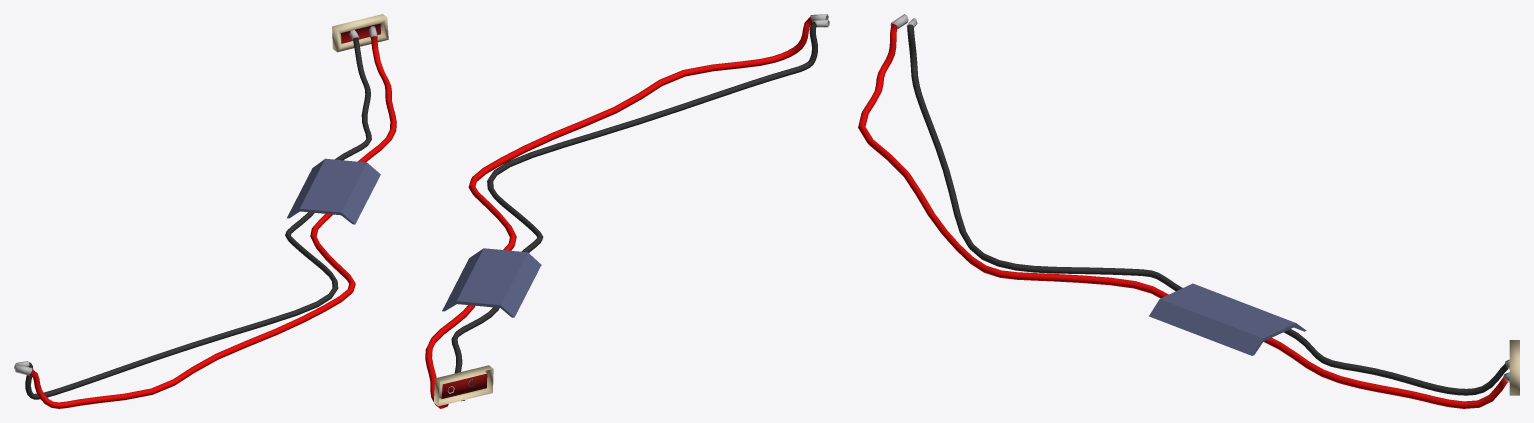
Rendered from hangar wires.fbx.
The picture shows the model from 3 angles, left to right: view 1: azimuth 30°, elevation 25°; view 2: azimuth 210°, elevation 25°; view 3: azimuth 270°, elevation 25°; orthographic projection. The views are drawn at different scales.
Visible parts, largest first — view 1: NurbsPath.001; view 2: NurbsPath.001; view 3: NurbsPath.001.
Part boxes in pixels (left/top/right/bottom): NurbsPath.001: left=14, top=14, right=396, bottom=408; NurbsPath.001: left=425, top=14, right=829, bottom=408; NurbsPath.001: left=858, top=14, right=1519, bottom=408.
Bounding box in the file's own units: 1005 × 70.68 × 785.
